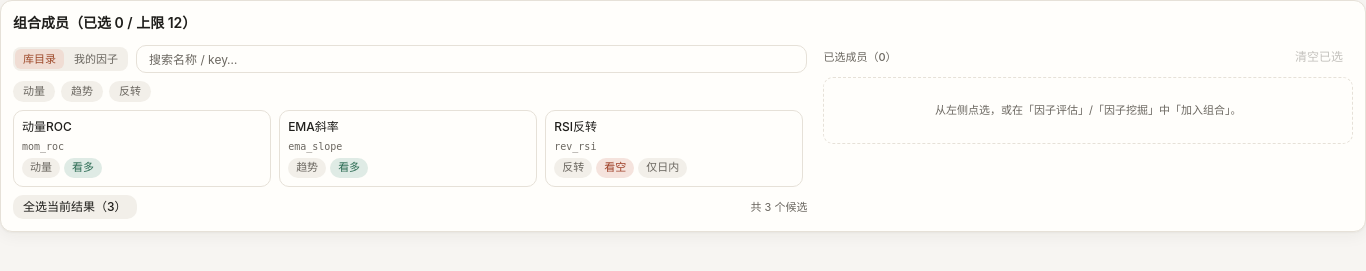
MemberPalette › shows an error + retry when 'my factors' fails to load
Click the button "我的因子" at (96, 59), box [66,49,126,69]
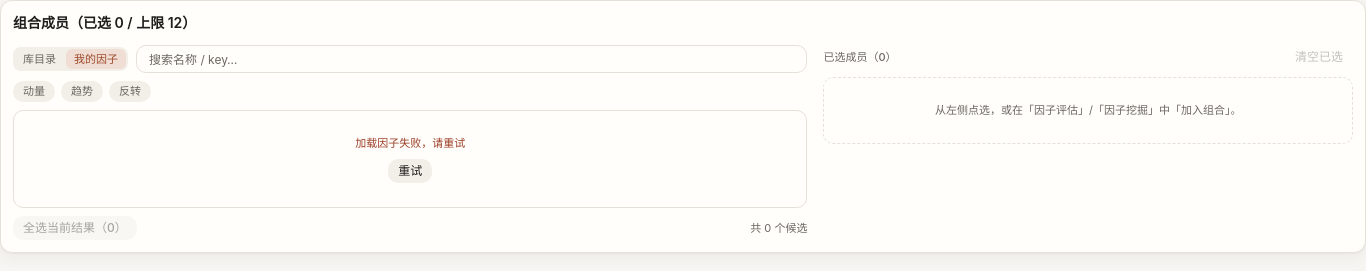
Result: the text "加载因子失败，请重试" is shown at [355,134,465,151]
Result: the button "重试" is shown at [388,159,432,183]
